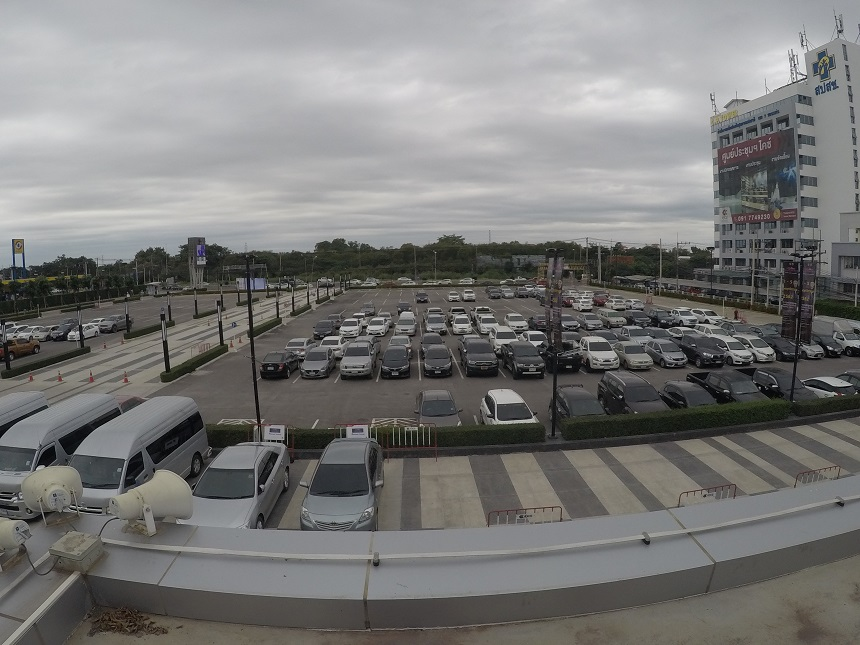busy: (96, 417, 181, 472), (204, 444, 279, 503), (316, 462, 382, 516), (609, 380, 659, 408), (24, 425, 72, 453), (414, 398, 461, 425), (480, 394, 524, 420), (509, 355, 549, 382), (557, 393, 597, 415), (5, 395, 41, 418), (338, 351, 369, 377), (462, 353, 499, 372), (669, 386, 705, 405), (423, 350, 453, 372), (720, 376, 750, 397), (260, 352, 291, 372), (588, 350, 619, 369), (766, 376, 797, 395), (383, 354, 412, 374), (696, 346, 722, 366), (300, 356, 327, 374), (811, 374, 833, 395), (663, 349, 687, 368), (555, 352, 580, 369), (725, 349, 750, 365), (778, 346, 801, 363), (629, 352, 652, 368), (841, 368, 860, 386), (754, 348, 774, 363), (804, 343, 822, 357), (845, 339, 860, 354), (827, 343, 841, 356)
